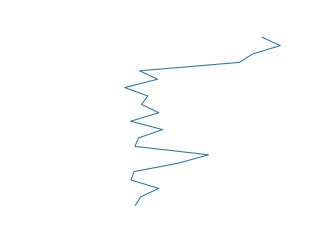crevasseRiverChannelBar: (119, 35, 286, 209)
